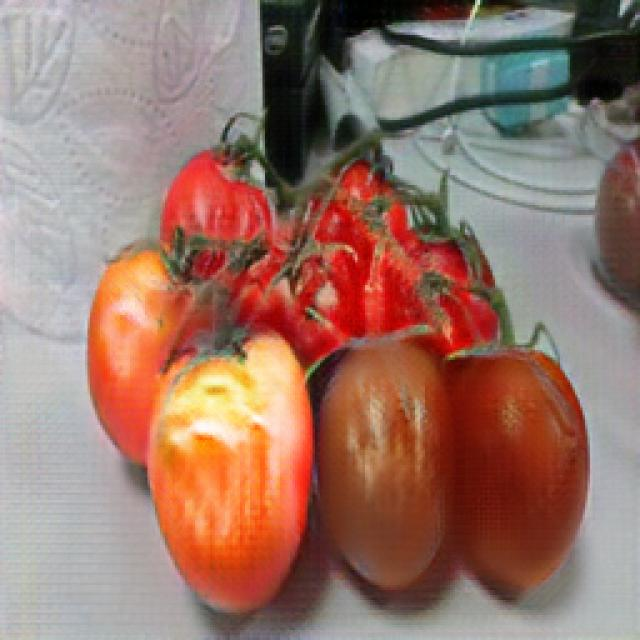overripe tomato: (150, 333, 316, 611), (320, 347, 453, 585), (97, 251, 181, 454)
